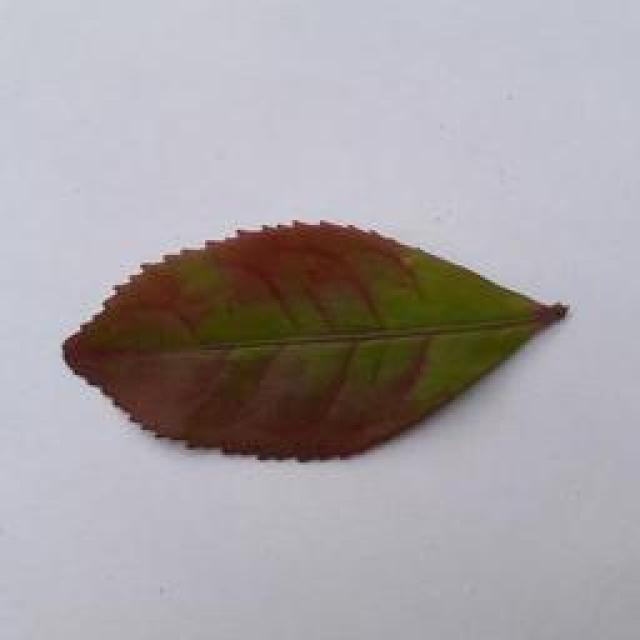Red Leaf Spot: (48, 200, 640, 483)
